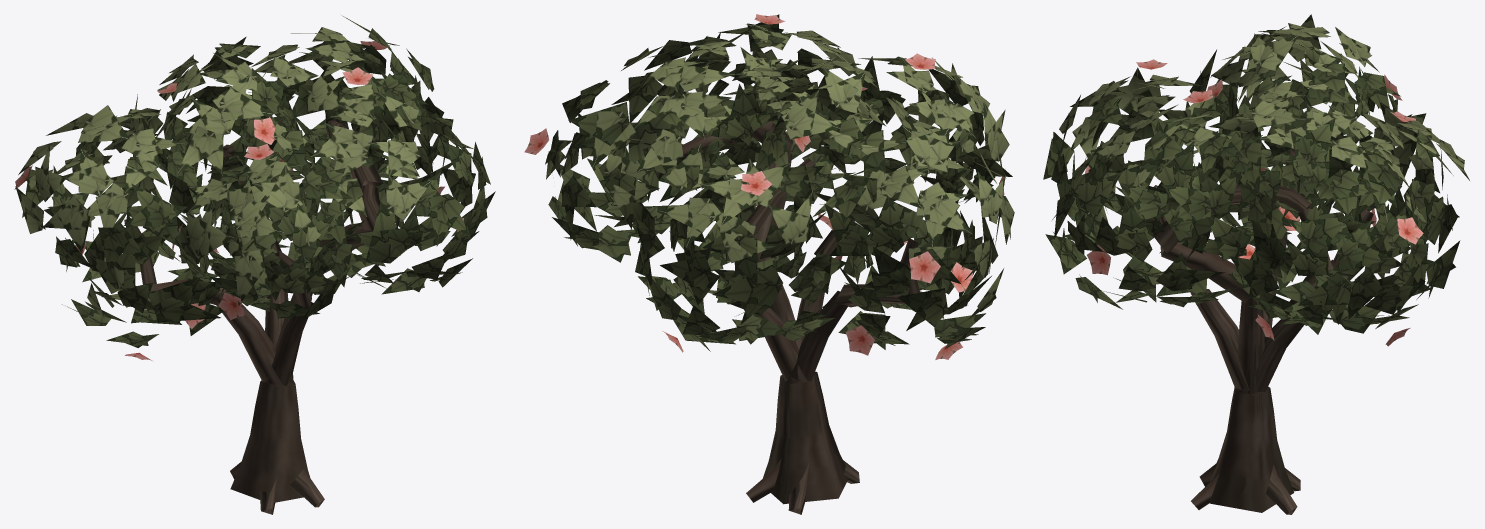
Rendered from tree_blossom_far.glb.
The picture shows the model from 3 angles, left to right: view 1: azimuth 30°, elevation 25°; view 2: azimuth 150°, elevation 25°; view 3: azimuth 270°, elevation 25°; orthographic projection. The views are drawn at different scales.
Parts seen in each view (by area): view 1: tree_blossom_lod1; view 2: tree_blossom_lod1; view 3: tree_blossom_lod1.
Part boxes in pixels (bbox=[...]): tree_blossom_lod1: bbox=[14, 16, 495, 514]; tree_blossom_lod1: bbox=[524, 14, 1014, 514]; tree_blossom_lod1: bbox=[1043, 14, 1469, 514].
Bounding box in the file's own units: 2.96 × 2.92 × 2.53.
1 material, 1 textured.
